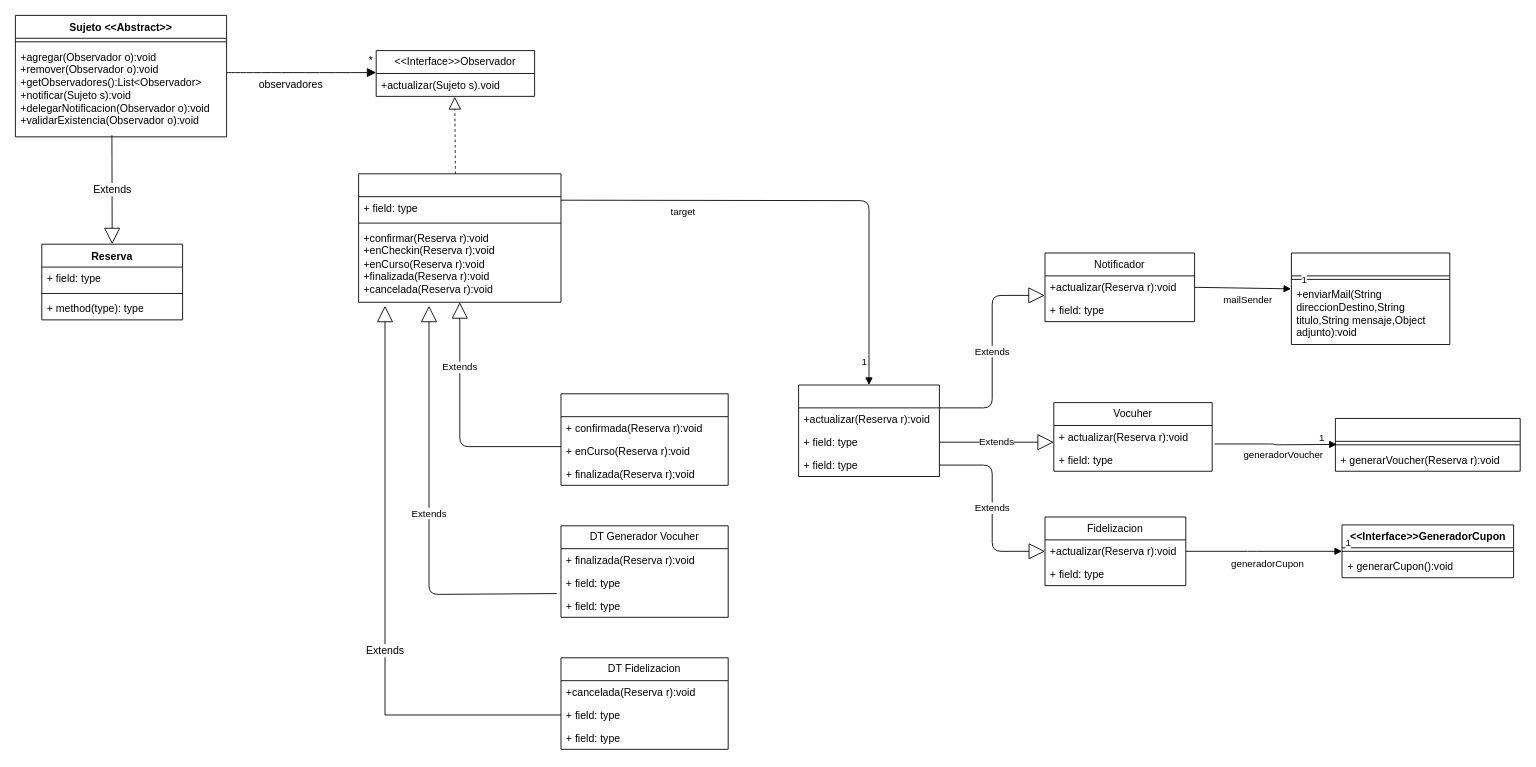
This 1536x767 diagram has some shape labels left out. The shapes that lost their labels are listed below. From the top down, each one's box as (x1, y1, x2, y2) in pixels, then its label:
(358, 173, 561, 302): <<Abstract>>DependencyTransformer
(1291, 252, 1450, 345): Interface <<MailSender>>
(560, 393, 728, 485): DT Notificador
(798, 384, 939, 477): <<Abstract>> Subsistema
(1335, 418, 1520, 471): <<Interface>>GeneradorVoucher
